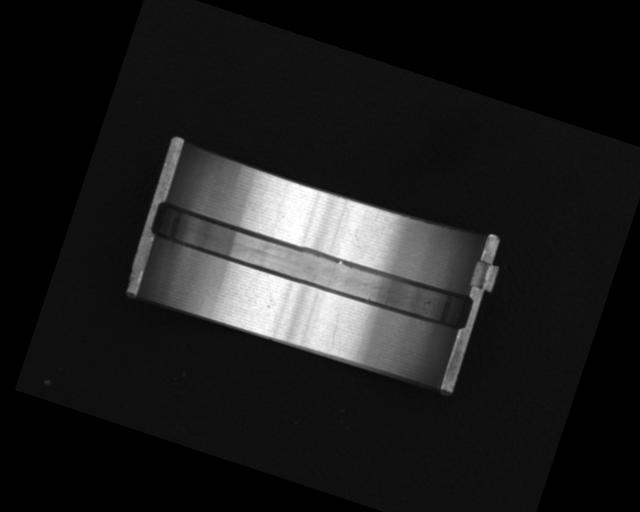gap: (146, 194, 473, 338)
nick: (325, 313, 343, 346)
